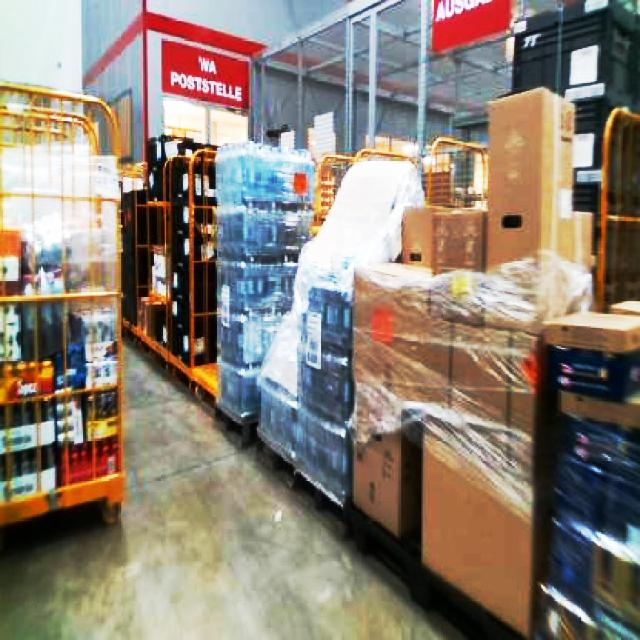ground: (0, 332, 485, 638)
pallet: (123, 85, 638, 638), (0, 77, 125, 568), (529, 298, 638, 638), (125, 135, 220, 411), (186, 145, 218, 402), (131, 195, 171, 366)
